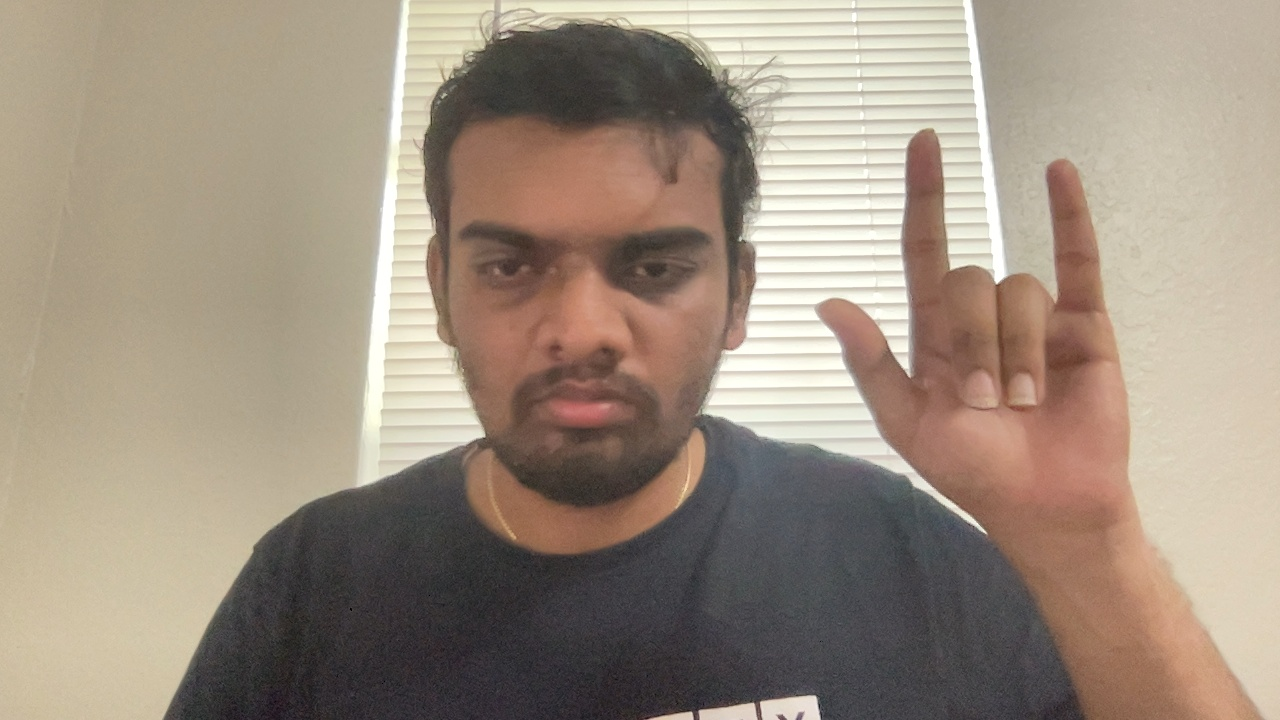i love you: (823, 116, 1163, 546)
